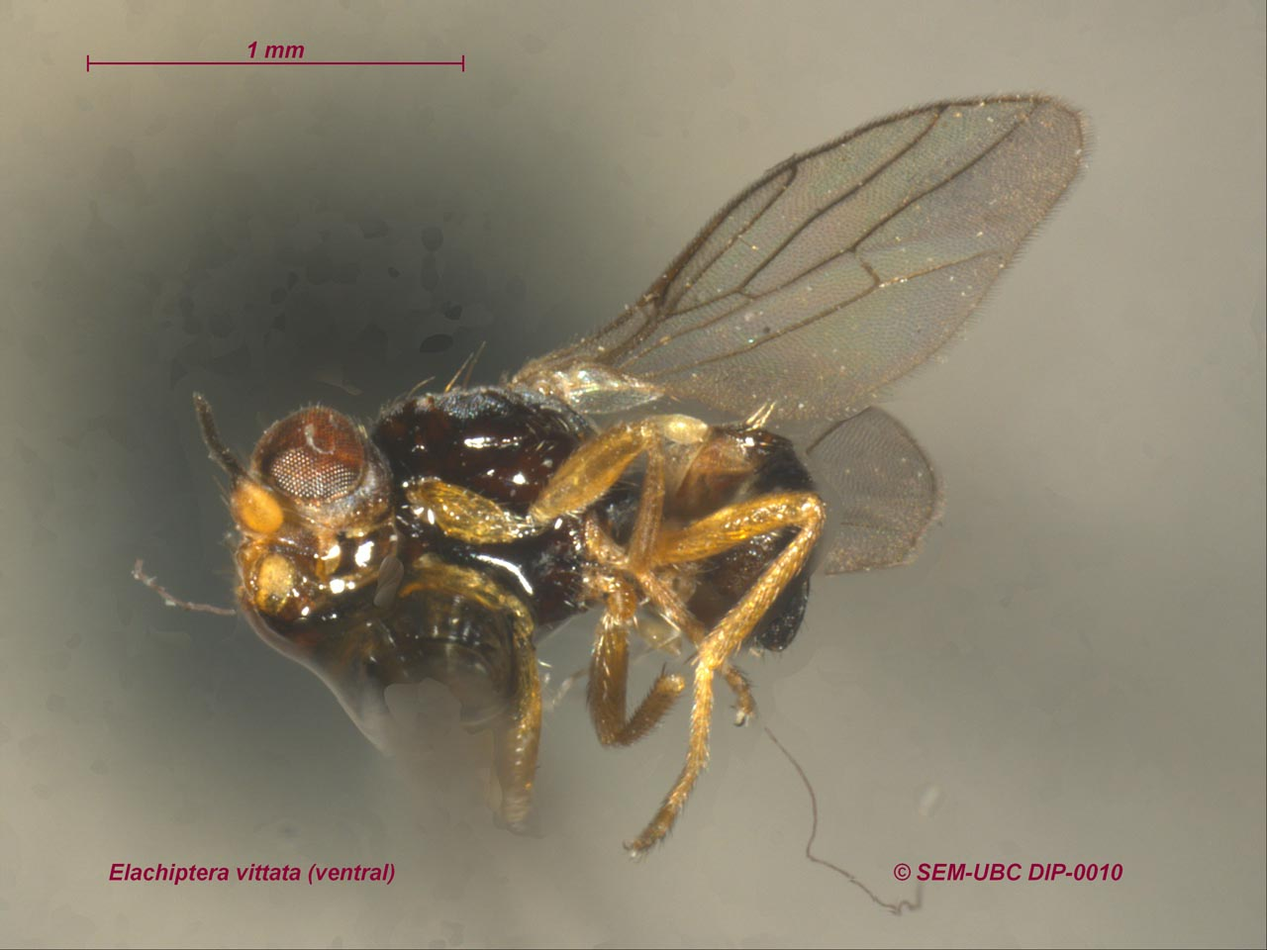Chloropidae: (117, 91, 1098, 848)
